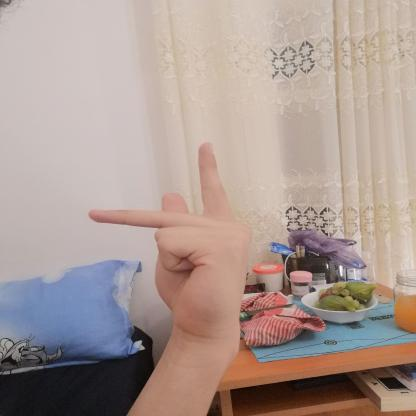DHAA: (70, 131, 264, 346)
